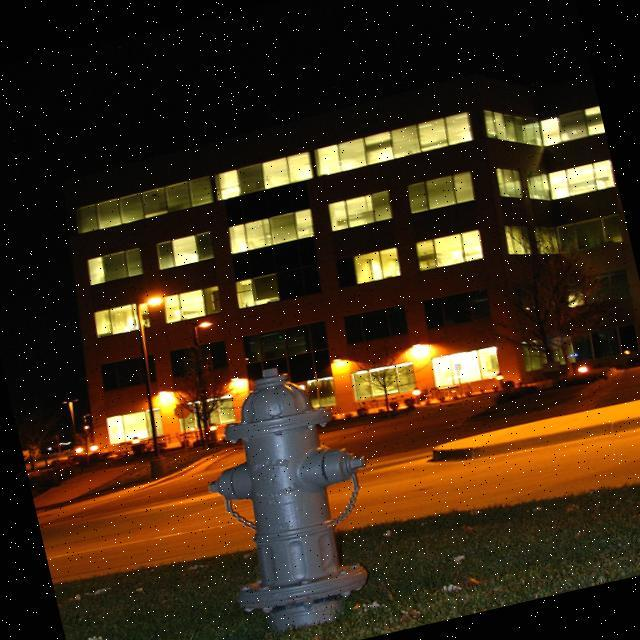fire_hydrant: (189, 352, 395, 640)
